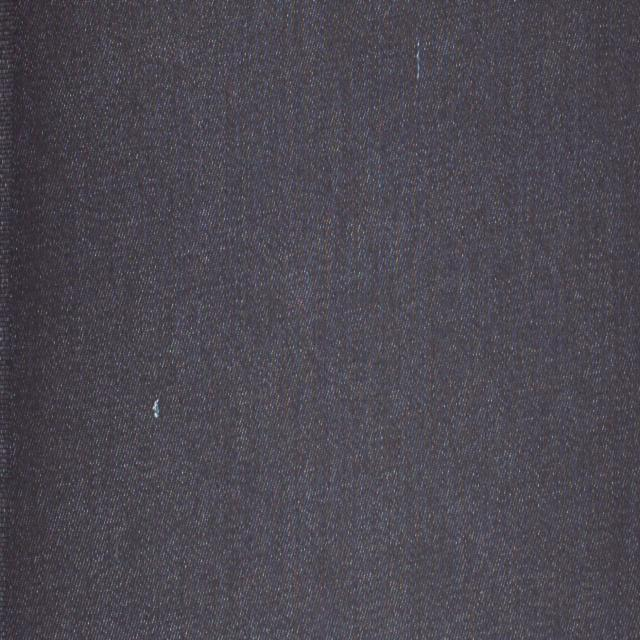Knot: (151, 399, 159, 418)
